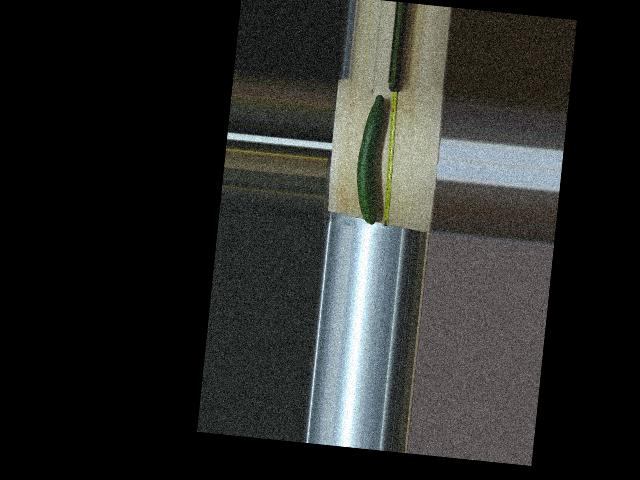cucumber: (352, 93, 390, 225)
